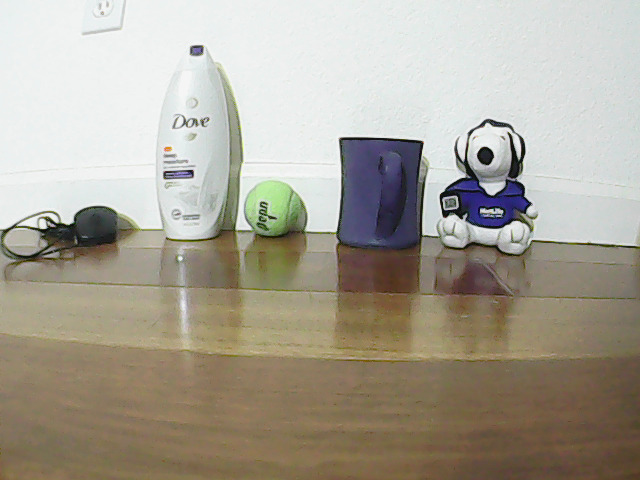ball: (246, 180, 299, 236)
mouse: (70, 189, 125, 254)
mug: (334, 119, 434, 257)
snoopy: (456, 119, 535, 252)
soap: (136, 33, 237, 242)
